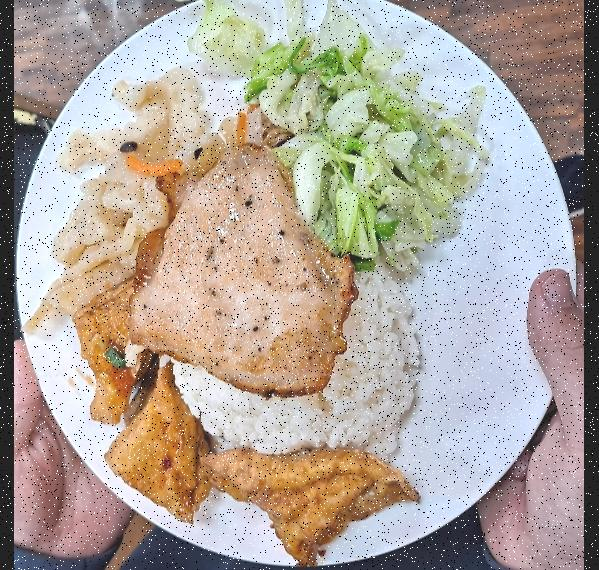grilled chicken steak: (132, 144, 338, 382)
plate: (25, 0, 576, 570)
side dish: (250, 0, 478, 244), (39, 64, 191, 393), (117, 425, 409, 538)
white rice: (168, 304, 430, 454)
